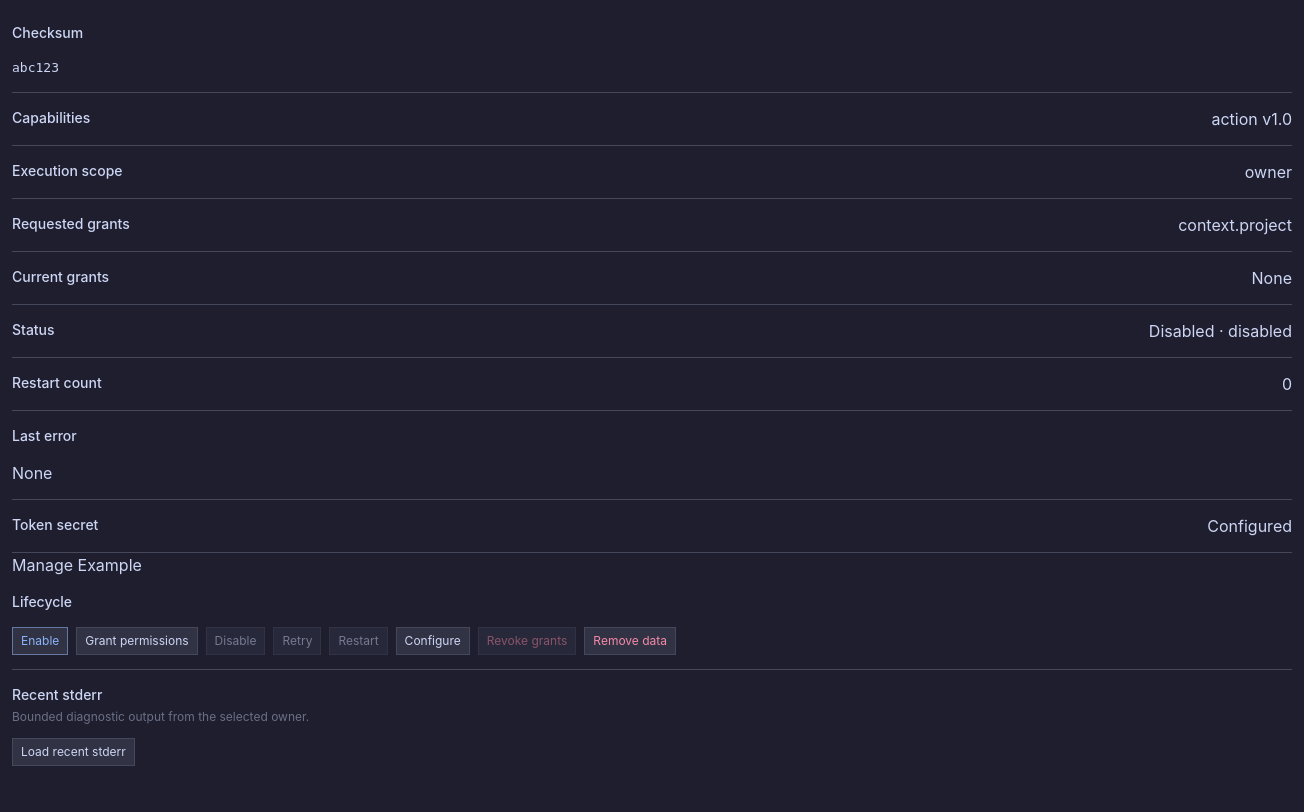
Test: shows configuration activation/rollback errors, reloads persisted values, and erases submitted secrets
This screenshot has width=1304, height=812.
(page scrolled)
Step 1. Click the button "Configure" → (433, 640), box [396,626,470,654]
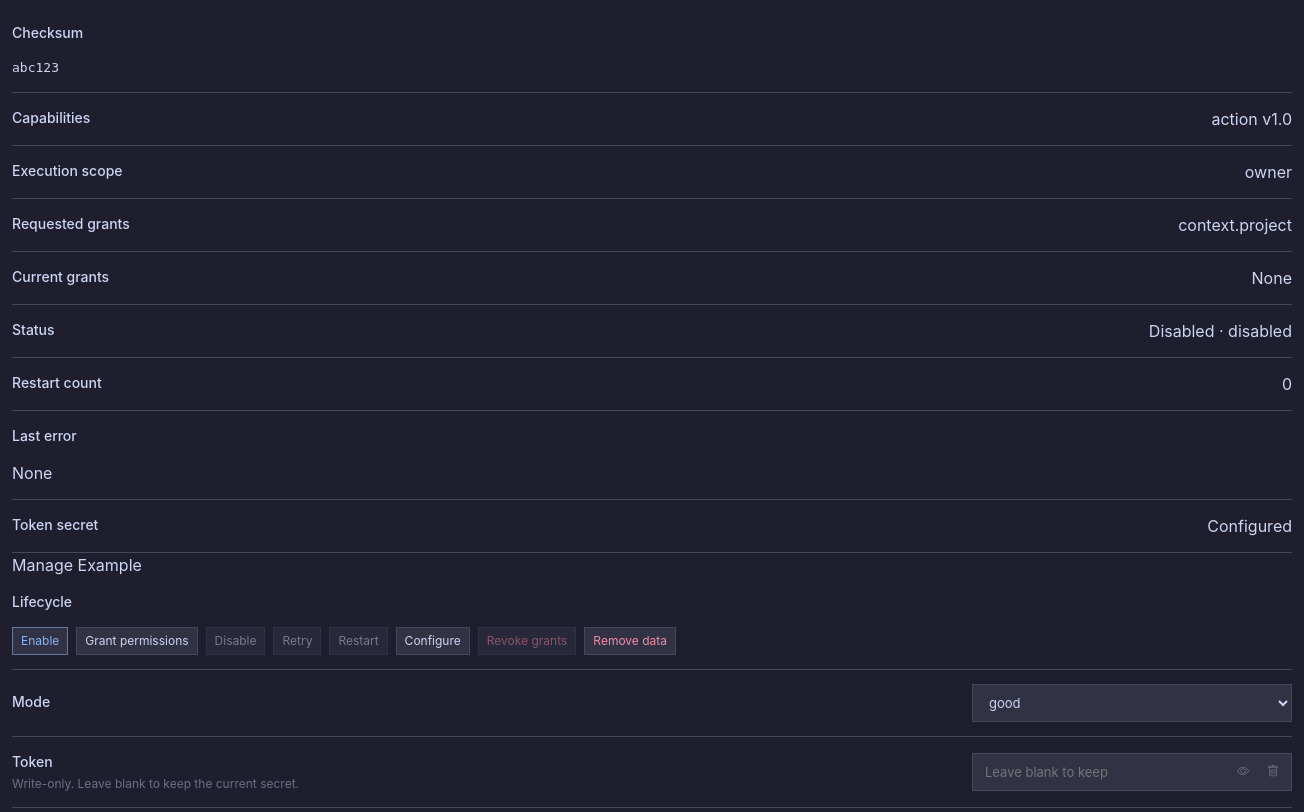
Step 2. Select "bad" in the dropdown named "Mode" → (1132, 702), box [972,684,1292,722]
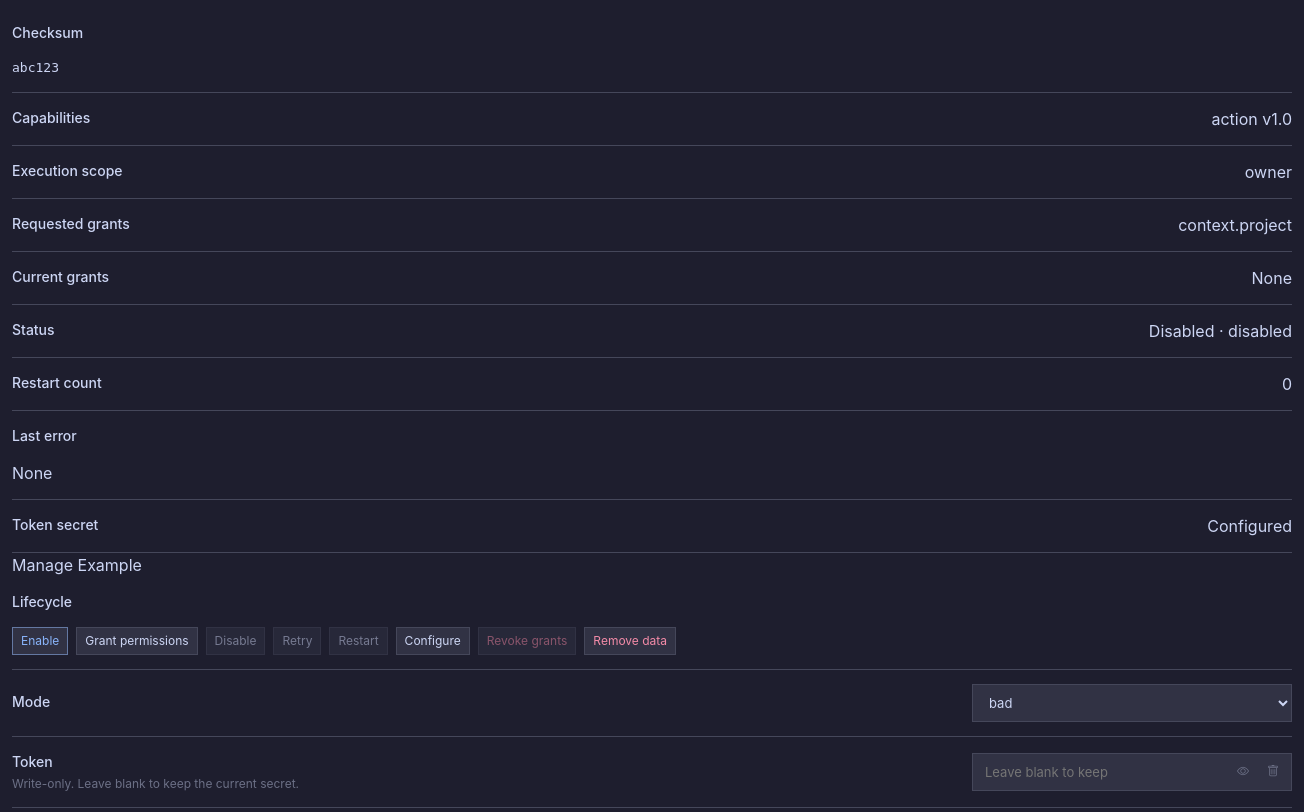
Step 3. Type "private-candidate" into the password field named "Token" → (1132, 772), box [972,752,1292,790]
(page scrolled)
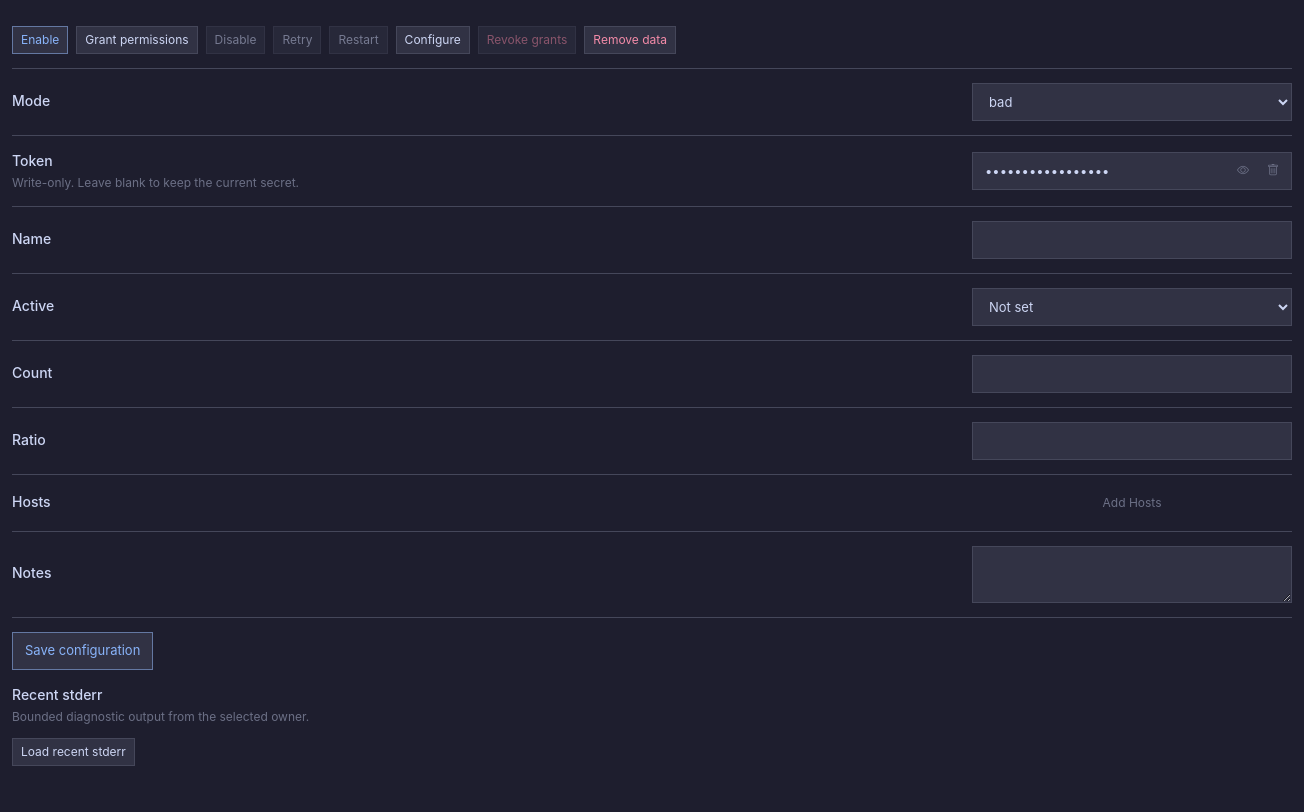
Step 4. Click the button "Save configuration" → (83, 650), box [12,632,153,670]
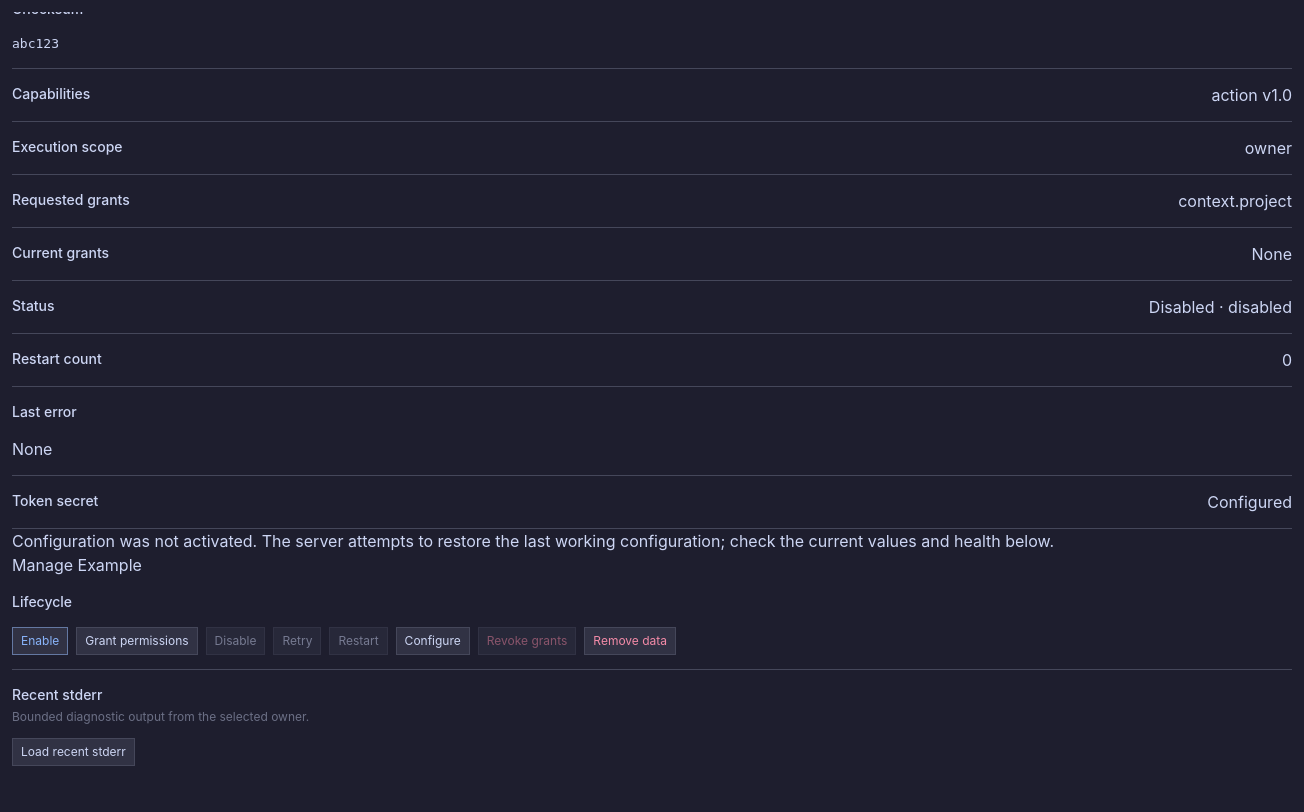
Expected: the message shows "Configuration was not activated", [12,530,1054,550]
Step 5. Click the button "Configure" → (433, 640), box [396,626,470,654]
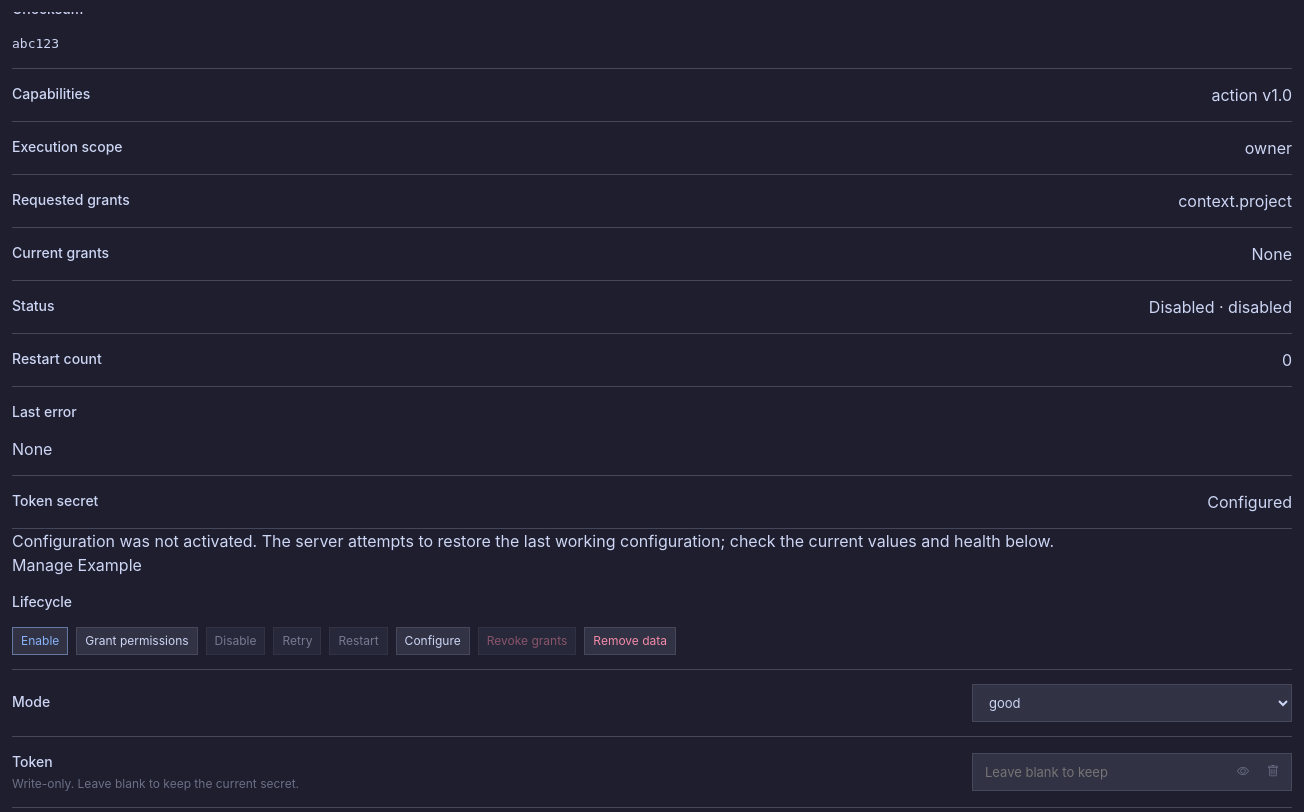
Expected: the dropdown named "Mode" shows "good", [972,684,1292,722]
Expected: the password field named "Token" is empty, [972,752,1292,790]
